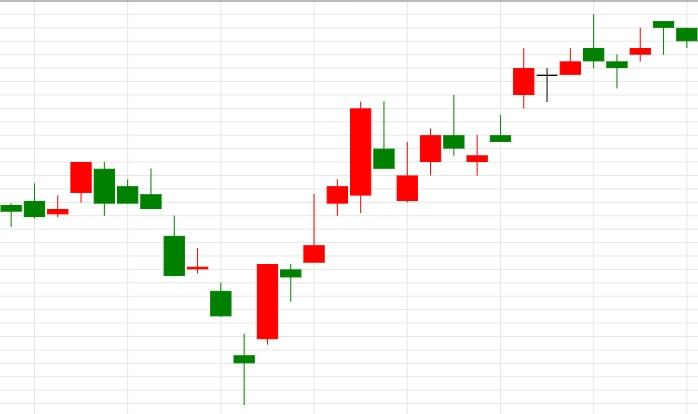shooting_star_fall: (232, 101, 395, 405), (466, 14, 606, 176), (397, 94, 465, 203)
